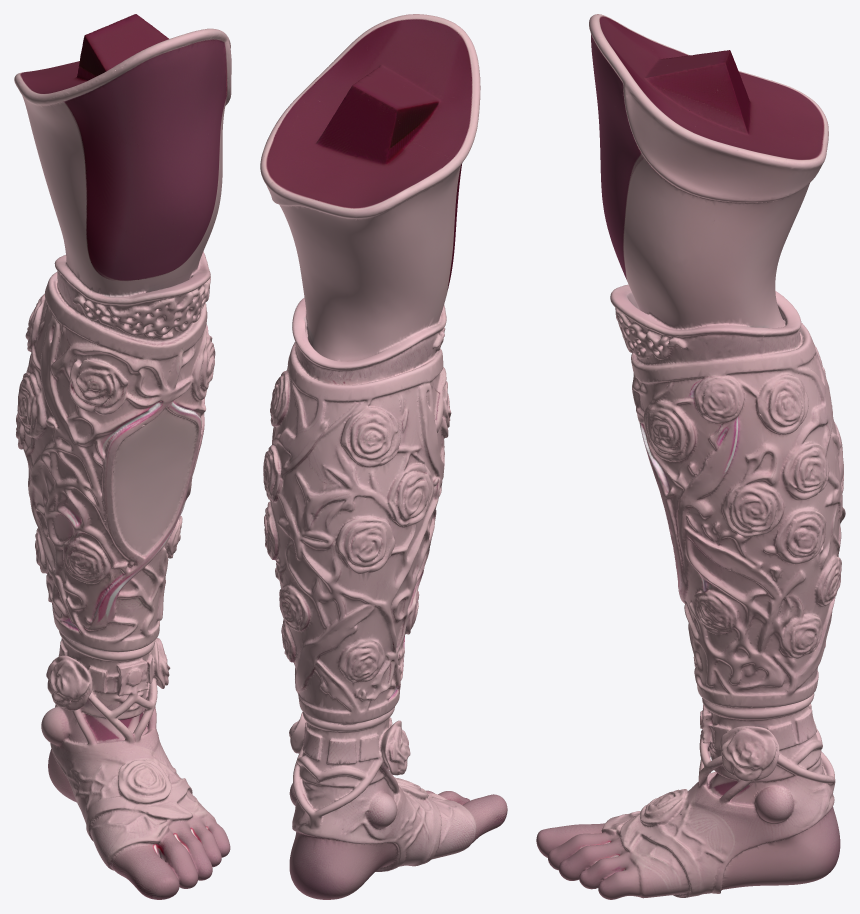
The model's file is limb_05.glb.
3 renders of one model, left to right at view 1: azimuth 30°, elevation 25°; view 2: azimuth 150°, elevation 25°; view 3: azimuth 270°, elevation 25°, orthographic. The views are drawn at different scales.
Bounding box in the file's own units: 0.4293 × 1.9 × 0.6233.
Materials: 1 (1 with a texture image).
